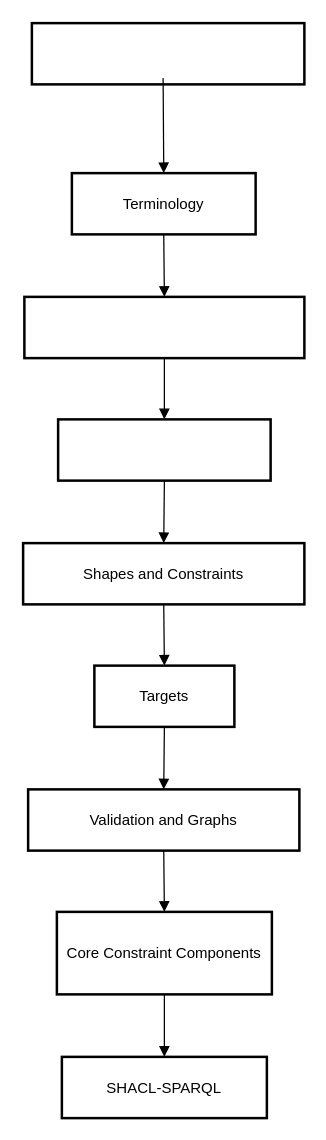
Some shapes in this 326 by 1140 pixel diagram are drawn without their labels. Here are the shapes that lost their labels. From the top down, the centre of each, then its label:
At pixel 167 53: "Introduction to SHACL".
At pixel 163 327: "Document Conventions".
At pixel 163 449: "SHACL Example".
